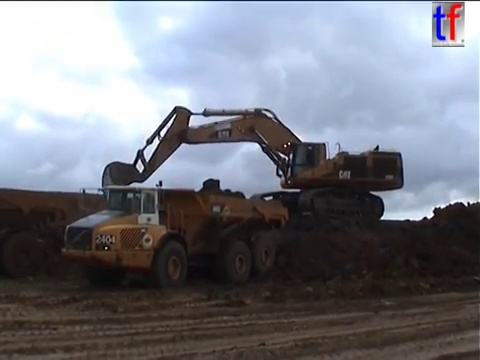excavator: (98, 103, 408, 223)
truck: (58, 178, 292, 292), (1, 184, 156, 281)
